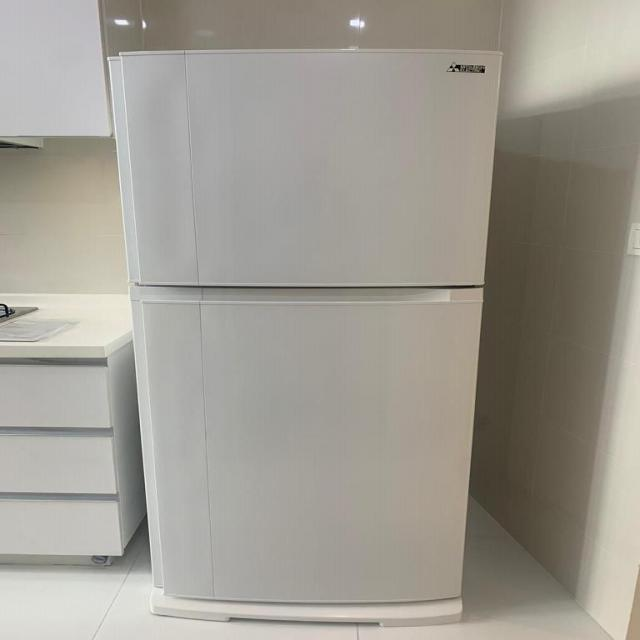refrigerator: (106, 48, 505, 617)
